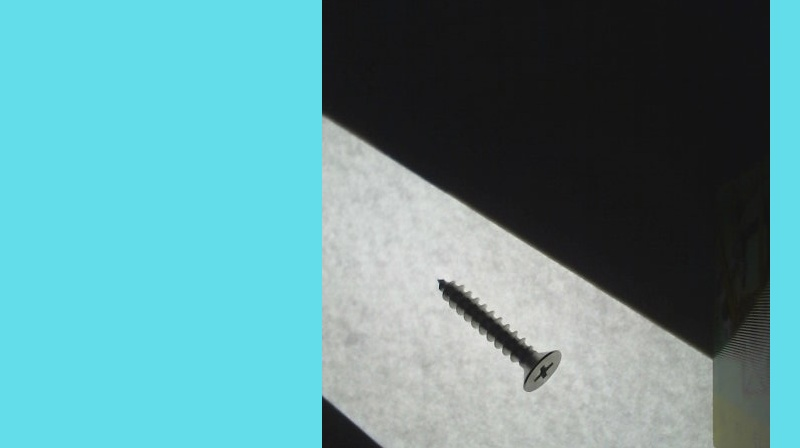S001: (436, 275, 565, 394)
